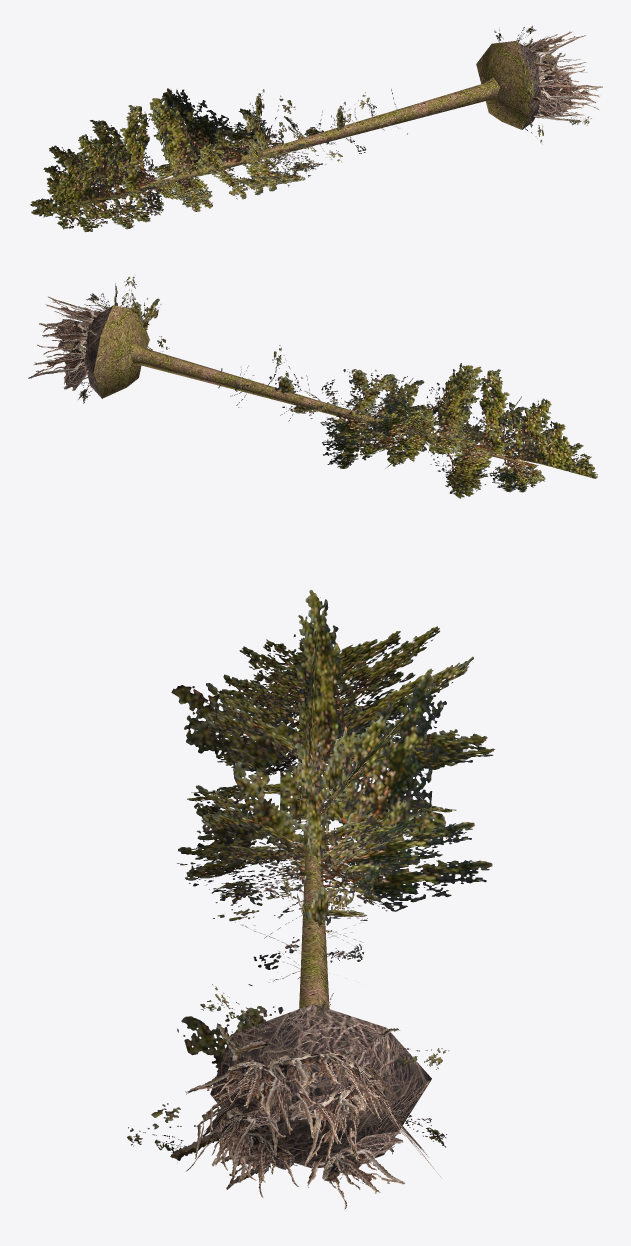
The model's file is SM_Tree_Fell_01.fbx.
3 renders of one model, top to bottom at view 1: azimuth 30°, elevation 25°; view 2: azimuth 150°, elevation 25°; view 3: azimuth 270°, elevation 25°, orthographic. The views are drawn at different scales.
Visible parts, largest first — view 1: Tree_Fell_01; view 2: Tree_Fell_01; view 3: Tree_Fell_01.
Part boxes in pixels (box(x1,y1,x2,y2)): Tree_Fell_01: box(30, 25, 602, 232); Tree_Fell_01: box(28, 276, 597, 498); Tree_Fell_01: box(127, 590, 494, 1209).
Size of the model in its own units: 1630 by 508 by 325.
